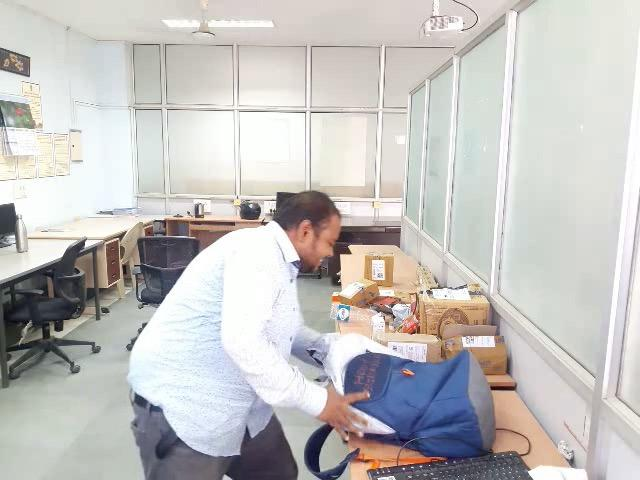shoplifting: (122, 170, 498, 452)
